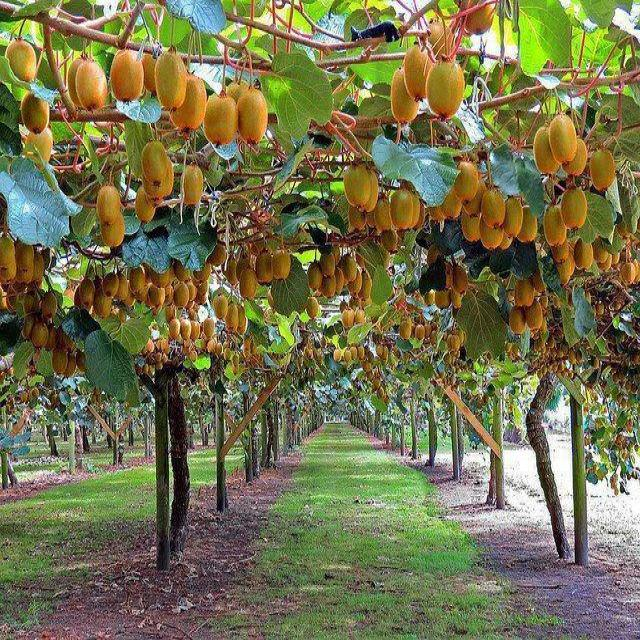kiwi: (425, 57, 468, 124), (169, 70, 211, 136), (237, 85, 274, 151), (203, 90, 242, 150), (153, 48, 189, 111), (108, 47, 147, 103), (389, 64, 423, 125), (3, 35, 40, 89), (76, 60, 111, 112), (406, 40, 433, 102), (548, 115, 579, 166), (140, 141, 172, 190), (454, 1, 494, 39), (426, 13, 456, 62), (588, 147, 619, 194), (534, 127, 561, 178), (21, 89, 52, 132), (139, 44, 163, 99), (452, 161, 480, 208), (96, 183, 124, 229), (179, 163, 207, 208), (68, 52, 89, 110), (343, 164, 371, 207), (562, 187, 589, 231), (502, 192, 526, 239), (515, 205, 543, 245), (482, 186, 507, 230), (96, 216, 128, 250), (358, 171, 382, 216), (390, 187, 414, 230), (544, 204, 568, 247), (566, 137, 591, 178), (463, 178, 488, 218), (25, 128, 57, 159), (135, 184, 158, 226), (478, 220, 505, 254), (271, 244, 293, 285), (254, 248, 276, 288), (572, 234, 594, 271), (239, 268, 262, 303), (15, 241, 39, 273), (375, 195, 395, 233), (515, 274, 536, 310), (439, 191, 465, 220), (461, 212, 483, 246), (227, 73, 251, 103), (39, 289, 59, 323), (508, 307, 528, 339), (1, 232, 16, 274), (30, 251, 48, 286), (526, 302, 545, 335), (144, 180, 170, 204), (190, 258, 214, 283), (127, 264, 147, 294), (450, 264, 470, 294), (31, 321, 51, 351), (79, 277, 97, 310), (211, 292, 230, 323), (349, 204, 369, 233), (174, 281, 193, 311), (94, 294, 114, 322), (53, 344, 69, 379), (149, 265, 172, 289), (341, 254, 360, 283), (550, 240, 571, 266), (319, 248, 336, 280), (171, 258, 191, 285), (225, 303, 241, 336), (558, 260, 576, 289), (208, 242, 227, 269), (22, 289, 41, 316), (381, 229, 400, 255), (148, 283, 167, 309), (103, 271, 121, 298), (593, 236, 609, 266), (359, 268, 373, 302), (237, 254, 255, 280), (435, 284, 452, 311), (321, 273, 337, 301), (227, 255, 240, 289), (411, 192, 423, 228), (428, 204, 448, 225), (309, 260, 323, 289), (622, 258, 637, 285), (498, 230, 516, 252), (195, 276, 213, 298), (22, 312, 36, 340), (307, 295, 322, 321), (47, 323, 60, 352), (168, 318, 183, 343), (117, 271, 129, 302), (399, 318, 415, 340), (445, 332, 461, 354), (428, 243, 442, 268), (348, 272, 362, 297), (1, 271, 19, 290), (341, 306, 356, 328), (204, 314, 216, 341), (598, 254, 615, 273), (413, 322, 427, 344), (16, 270, 34, 287), (336, 264, 346, 294), (422, 288, 436, 309), (238, 305, 247, 336), (182, 318, 193, 343), (165, 285, 175, 310), (356, 307, 368, 327), (191, 318, 201, 341), (366, 212, 378, 231), (609, 247, 621, 265), (207, 339, 219, 354), (161, 338, 171, 355), (145, 339, 156, 354), (349, 343, 358, 361), (334, 347, 343, 364), (375, 344, 385, 357), (217, 341, 225, 357), (344, 348, 352, 363), (225, 345, 232, 361), (358, 347, 365, 360)
